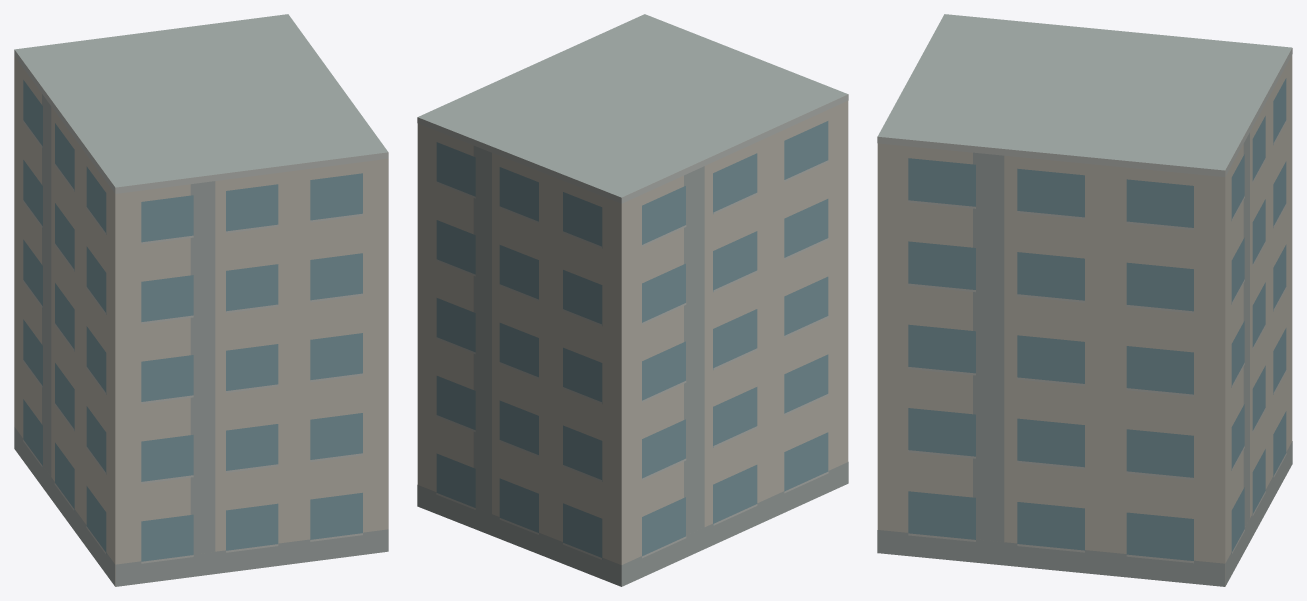
File: survey-upis-32955890.glb
3 views of the same model, side by side, from view 1: azimuth 30°, elevation 25°; view 2: azimuth 150°, elevation 25°; view 3: azimuth 270°, elevation 25° (orthographic). The views are drawn at different scales.
Parts seen in each view (by area): view 1: survey-upis-32955890.tmp; view 2: survey-upis-32955890.tmp; view 3: survey-upis-32955890.tmp.
Part boxes in pixels (x1=…): survey-upis-32955890.tmp: x1=14, y1=14, x2=388, y2=586; survey-upis-32955890.tmp: x1=417, y1=14, x2=848, y2=586; survey-upis-32955890.tmp: x1=877, y1=14, x2=1292, y2=586.
Bounding box in the file's own units: 12.3 × 15.25 × 13.79.
